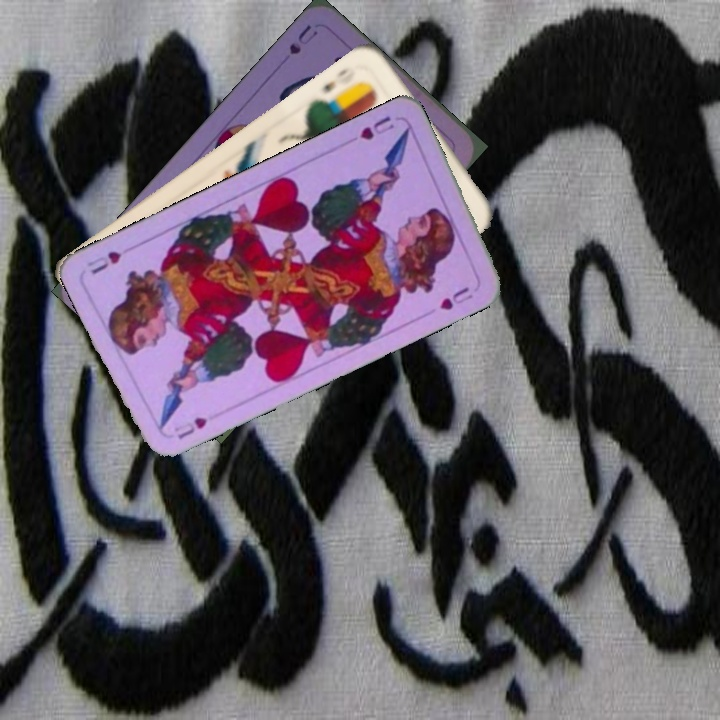EO: (313, 76, 340, 106)
HU: (356, 111, 397, 143), (169, 413, 210, 443)
SU: (285, 20, 321, 58)
